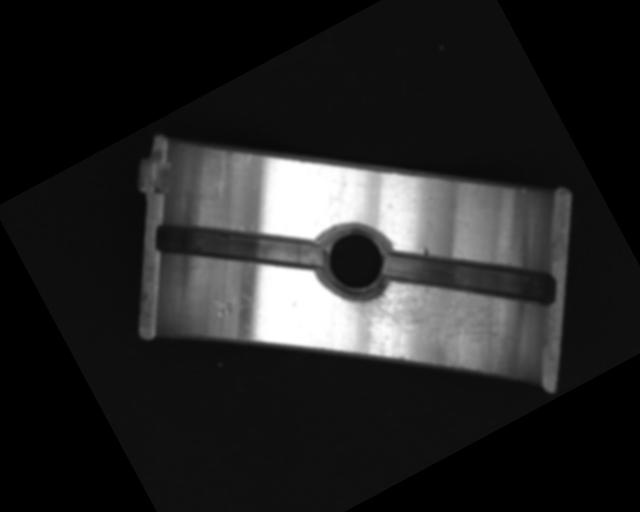bruise: (209, 293, 237, 321), (417, 243, 432, 259)
gap: (377, 191, 563, 365), (150, 165, 325, 328)
hole: (300, 207, 406, 313)
scratch: (338, 232, 525, 418)
